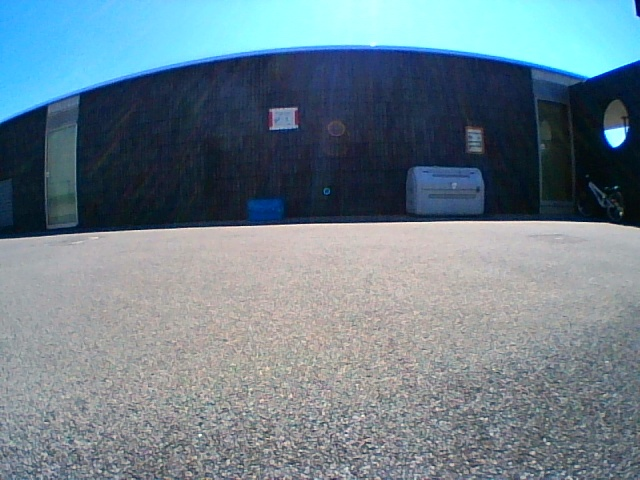blue_box: (248, 198, 281, 219)
